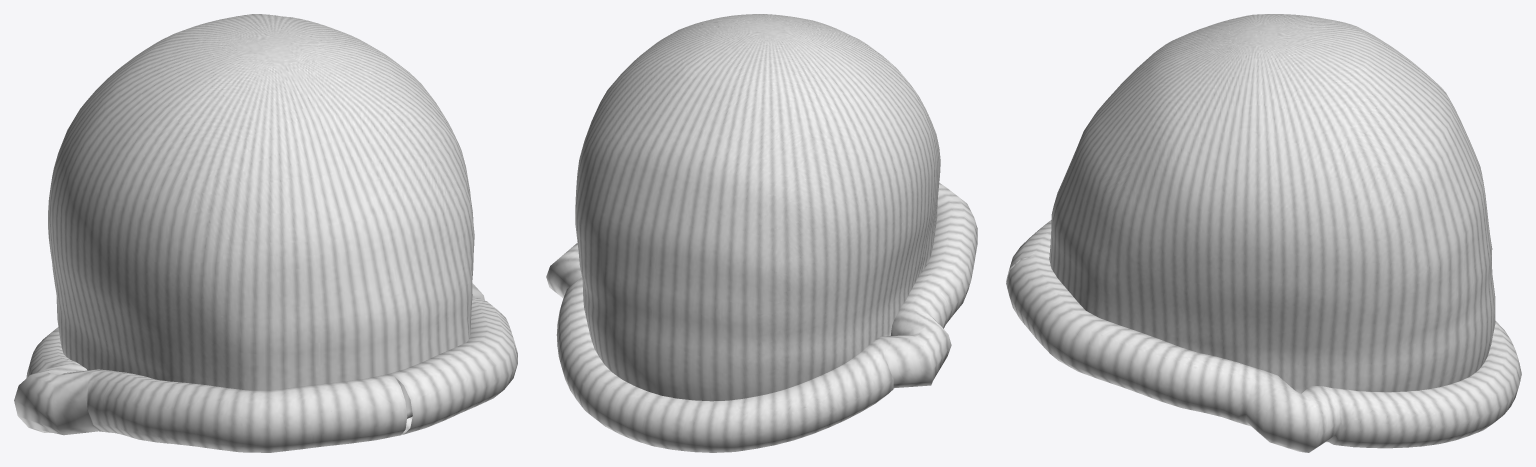
The model's file is acc_beanie_male.glb.
The picture shows the model from 3 angles, left to right: view 1: azimuth 30°, elevation 25°; view 2: azimuth 150°, elevation 25°; view 3: azimuth 270°, elevation 25°; orthographic projection. The views are drawn at different scales.
Visible parts, largest first — view 1: beanie; view 2: beanie; view 3: beanie.
Boxes of the visible parts, bbox=[...] form: beanie: bbox=[14, 14, 517, 452]; beanie: bbox=[546, 14, 977, 452]; beanie: bbox=[1006, 14, 1521, 452].
Size of the model in its own units: 0.2326 by 0.1957 by 0.2499.
Materials: 1 (1 with a texture image).
